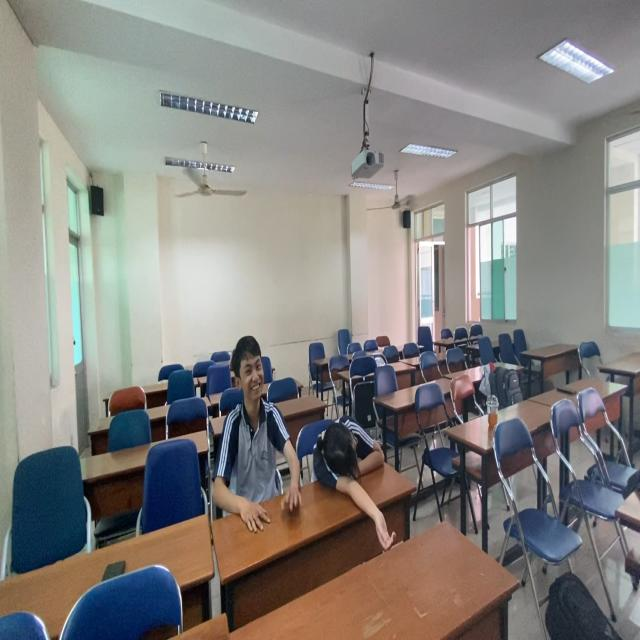sleep: (306, 414, 394, 525)
